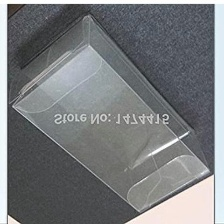plastic_box: (6, 9, 213, 218)
